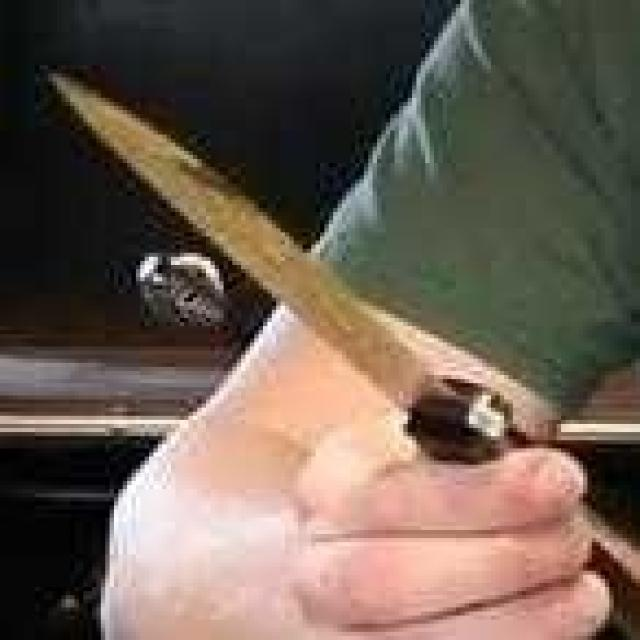Knife: (39, 53, 640, 595)
